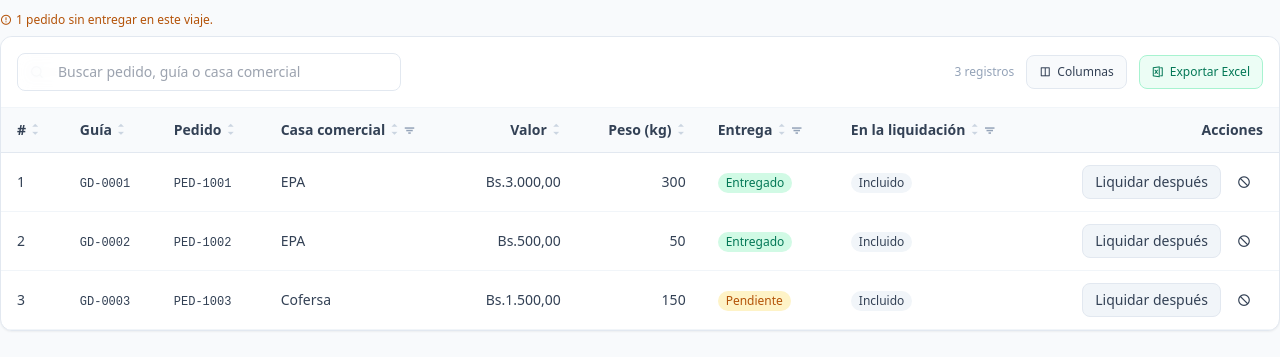
Test: TripOrdersPanel › anular pide un motivo antes de confirmar
Expected: the text "PED-1002" is shown, [174, 236, 231, 250]
Click the button titled "Sacar el pedido del reparto" in the row of "GD-0002": click(1244, 241) [1225, 225, 1263, 257]
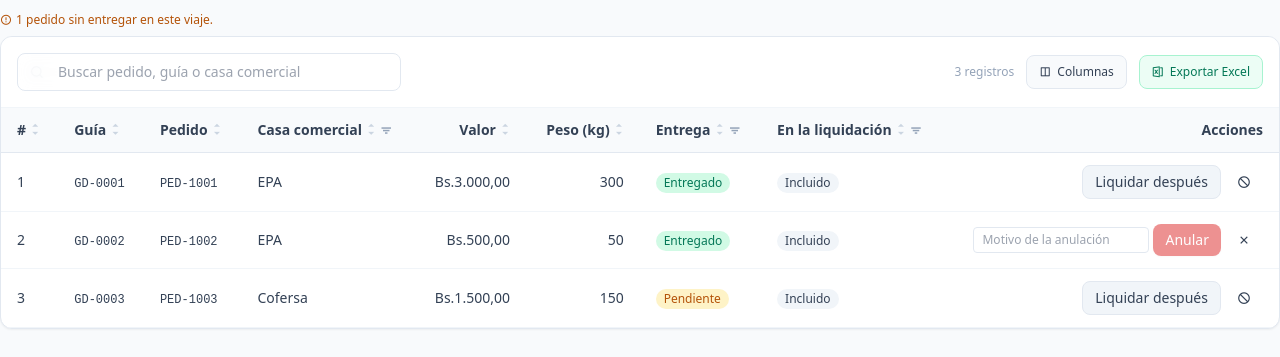
Result: the button "Anular" is disabled at [1154, 224, 1221, 256]
In the field labelled "Motivo de la anulación": (1062, 240) [974, 227, 1150, 253], type "duplicado"
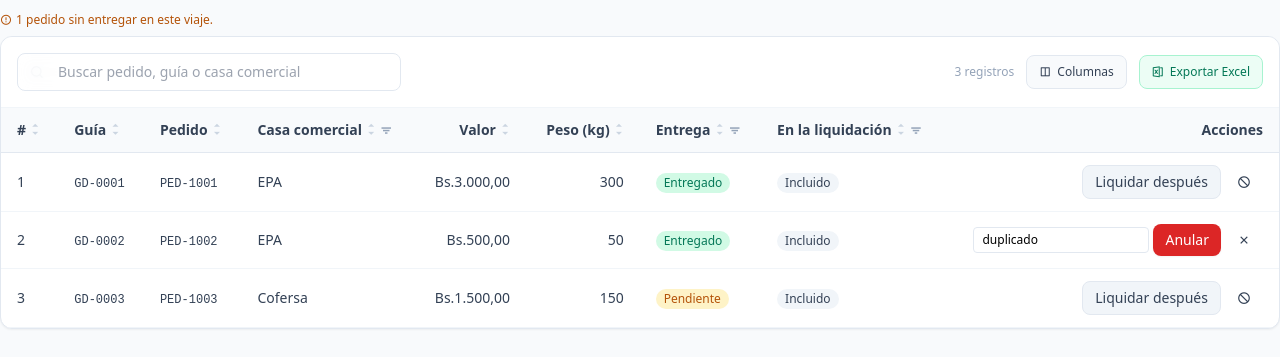
Result: the button "Anular" is enabled
Click the button "Anular": click(1187, 240) [1154, 224, 1221, 256]
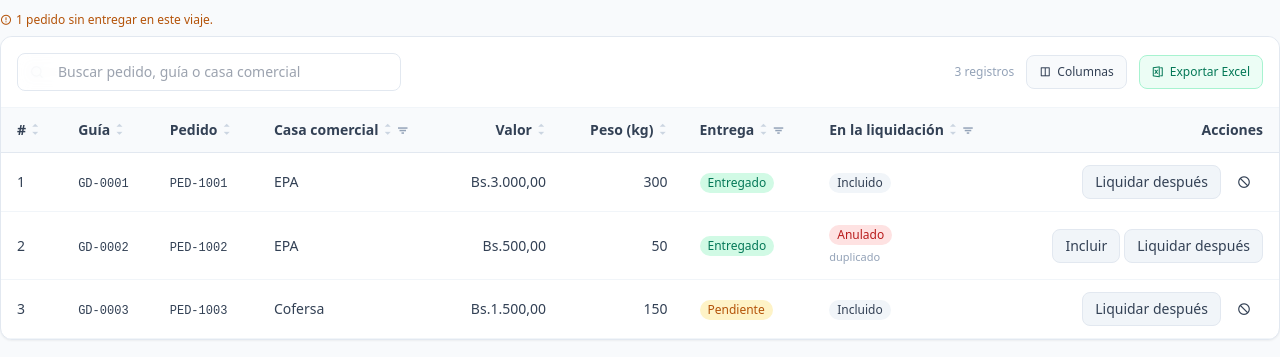
Result: the text "duplicado" is shown at [829, 249, 880, 264]
Result: the text "Anulado" is shown at [829, 225, 892, 245]
